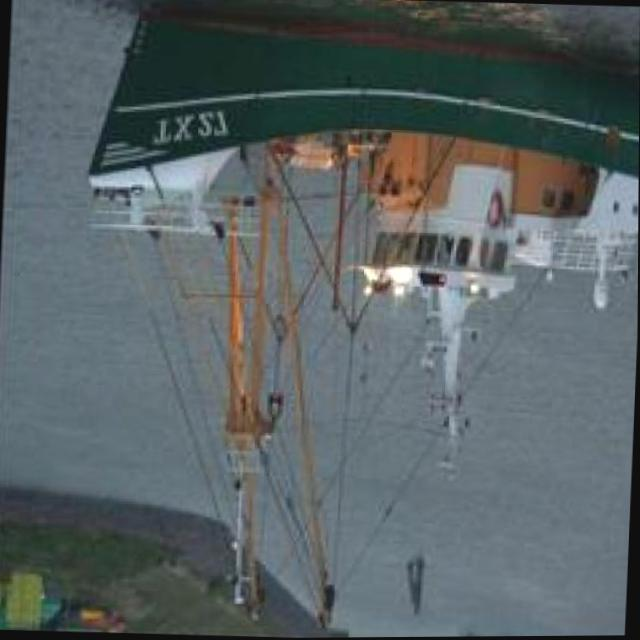ship2: (87, 10, 640, 626)
